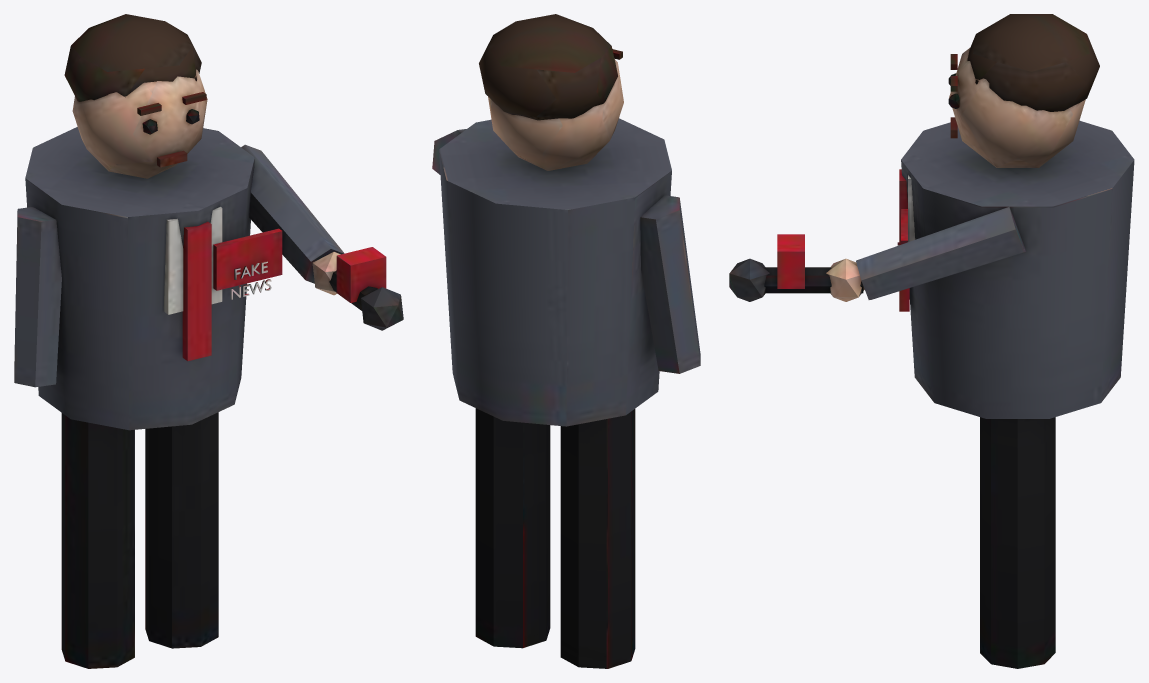
File: periodista.glb
The picture shows the model from 3 angles, left to right: view 1: azimuth 30°, elevation 25°; view 2: azimuth 150°, elevation 25°; view 3: azimuth 270°, elevation 25°; orthographic projection. The views are drawn at different scales.
Parts seen in each view (by area): view 1: periodista; view 2: periodista; view 3: periodista.
Part boxes in pixels (x1,y1,x2,y2): periodista: (14, 14, 403, 668); periodista: (432, 14, 700, 668); periodista: (729, 14, 1134, 668).
Bounding box in the file's own units: 0.873 × 1.97 × 1.18.
1 material, 1 textured.
